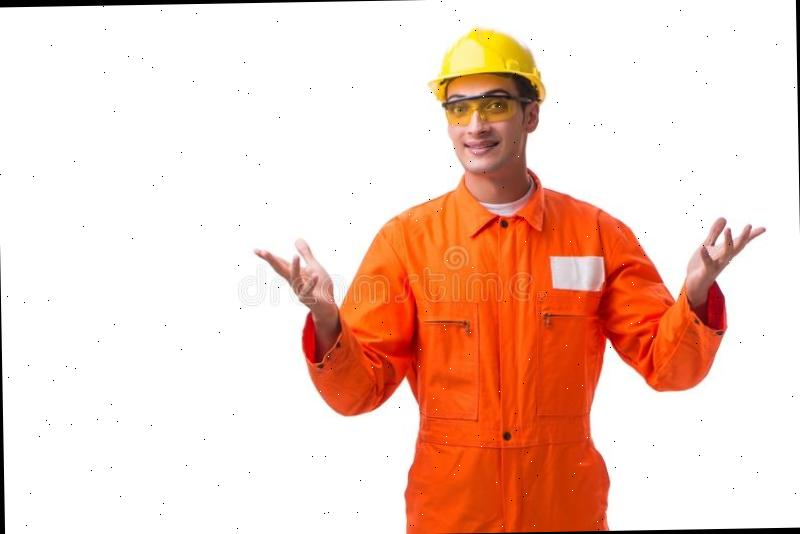helmet: (425, 22, 550, 106)
wear: (393, 189, 605, 458)
